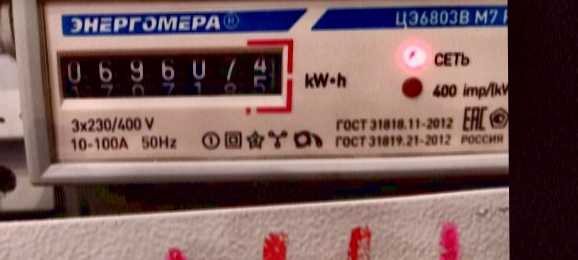0: (65, 58, 84, 83), (191, 54, 208, 80)
4: (253, 52, 268, 73)
5: (254, 74, 268, 93)
6: (96, 56, 115, 82), (160, 54, 177, 81)
7: (222, 55, 239, 81)
9: (128, 56, 146, 82)
screen: (51, 36, 298, 115)
